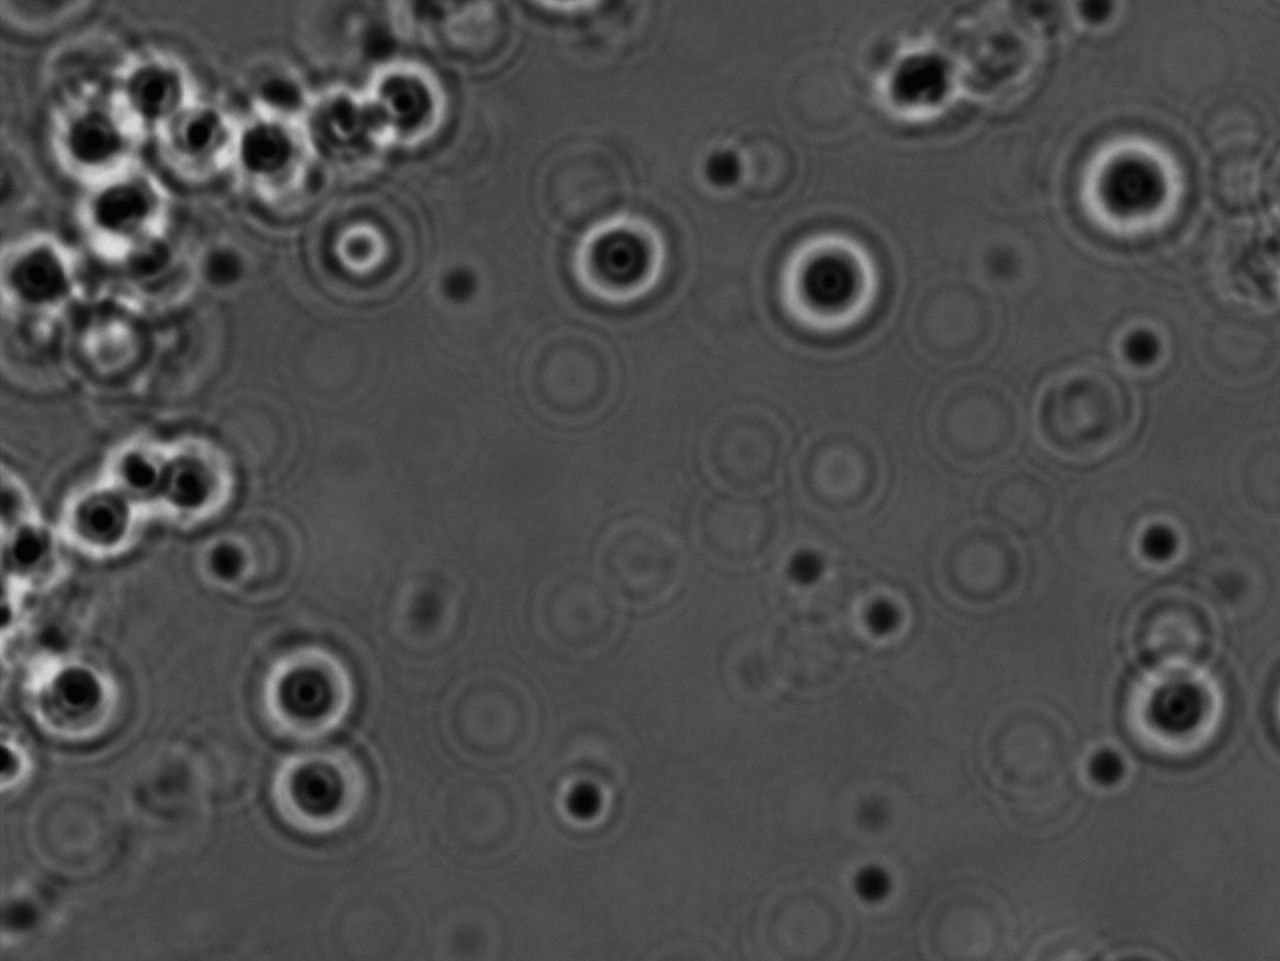depth:-16: (1051, 115, 1222, 253), (1100, 636, 1256, 788), (761, 212, 916, 360), (555, 187, 691, 337), (247, 626, 387, 752), (253, 732, 386, 851)
